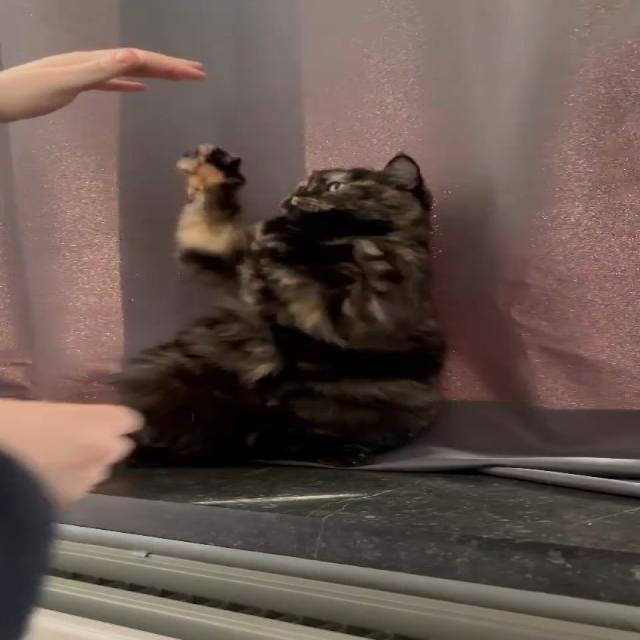authorized: (105, 149, 447, 468), (172, 142, 248, 279)
